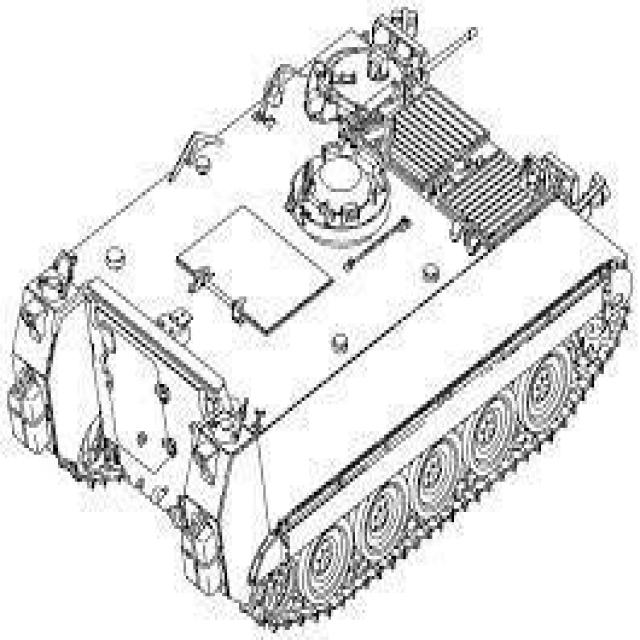Tanks: (14, 16, 628, 612)
